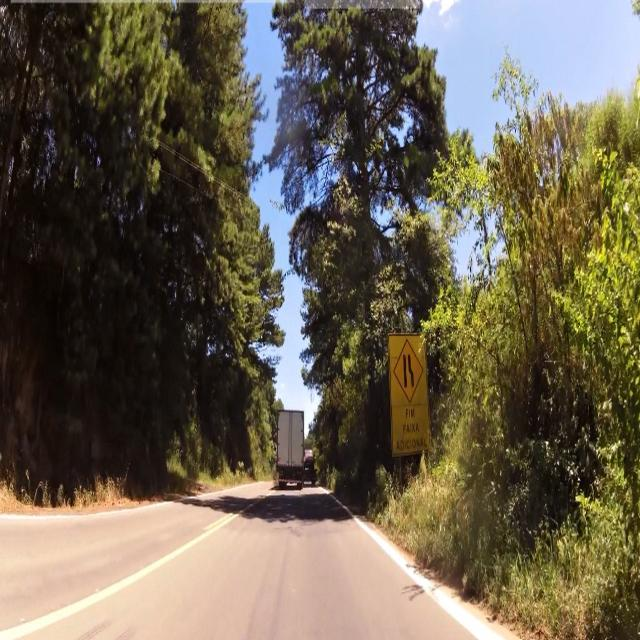A-21c: (392, 339, 425, 404)
